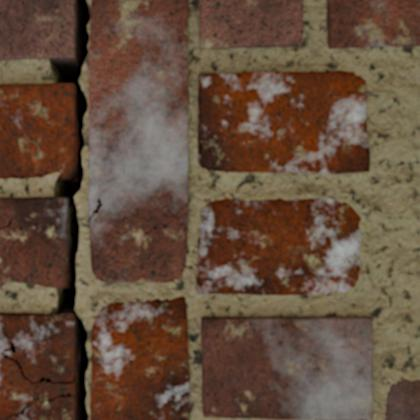brick: (89, 0, 187, 281), (202, 317, 372, 418), (198, 71, 368, 172), (197, 198, 359, 293), (91, 297, 189, 419), (0, 84, 75, 177), (0, 198, 66, 287), (0, 313, 74, 381), (199, 0, 301, 47), (0, 355, 74, 419), (327, 0, 419, 47), (0, 0, 74, 58), (9, 398, 75, 419), (385, 380, 419, 419)
crack: (0, 0, 91, 419), (89, 197, 103, 222)
